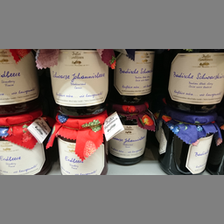jam: (47, 49, 111, 116), (156, 111, 218, 176), (164, 49, 223, 112), (52, 111, 110, 175), (1, 110, 55, 175), (1, 49, 47, 118), (107, 102, 155, 166), (111, 49, 156, 102)
